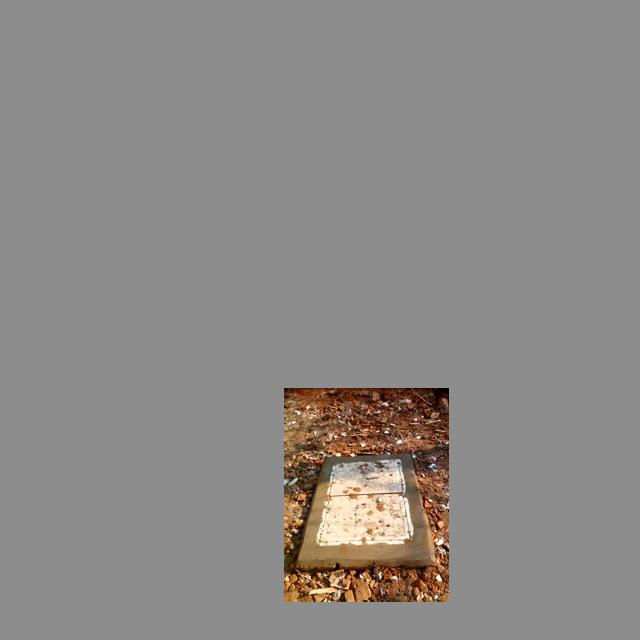good: (315, 458, 414, 544)
